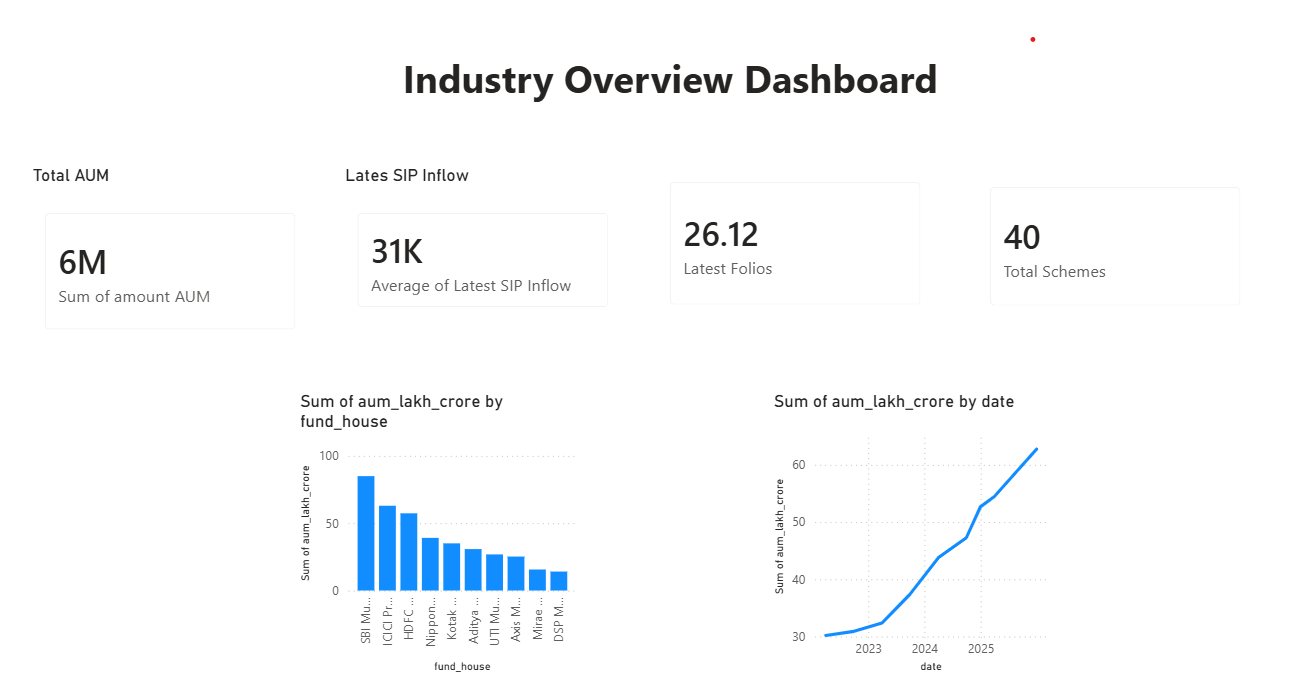

The page's visual inventory and layout, read from the dashboard file:
{"tool":"powerbi","page":{"name":"Industry Overview","canvas":[1280,720],"ordinal":0},"visuals":[{"type":"cardVisual","title":"Total AUM","fields":{"Data":["03_aum_by_fund_house.Latest AUM"]},"box":[28.6,204.4,279.5,178.8],"z":0},{"type":"cardVisual","title":"Lates SIP Inflow","fields":{"Data":["04_monthly_sip_inflows.Latest SIP Inflow"]},"box":[333.6,204.4,279.5,156.3],"z":1000},{"type":"cardVisual","fields":{"Data":["06_industry_folio_count.Latest Folios"]},"box":[640.2,204.4,279.5,154.8],"z":2000},{"type":"cardVisual","fields":{"Data":["01_fund_master.Total Schemes"]},"box":[952.7,208.9,279.5,150.3],"z":3000},{"type":"lineChart","fields":{"Category":["03_aum_by_fund_house.date"],"Y":["Sum(03_aum_by_fund_house.aum_lakh_crore)"]},"box":[752.9,425.3,280,280],"z":4000},{"type":"clusteredColumnChart","fields":{"Category":["03_aum_by_fund_house.fund_house"],"Y":["Sum(03_aum_by_fund_house.aum_lakh_crore)"]},"box":[290,425.3,280,280],"z":5000},{"type":"textbox","box":[183.3,88.7,946.7,115.7],"z":5001}]}

Visuals, with their boxes on the page's 1280x720 design canvas (x1, y1, x2, y2). These are canvas units, not pixel positions in the 1306x691 screenshot, which may show the page scaled, cropped or inside an application window:
"Total AUM" cardVisual: {"left": 29, "top": 204, "right": 308, "bottom": 383}
"Lates SIP Inflow" cardVisual: {"left": 334, "top": 204, "right": 613, "bottom": 361}
cardVisual - 06_industry_folio_count.Latest Folios: {"left": 640, "top": 204, "right": 920, "bottom": 359}
cardVisual - 01_fund_master.Total Schemes: {"left": 953, "top": 209, "right": 1232, "bottom": 359}
lineChart - 03_aum_by_fund_house.date x Sum(03_aum_by_fund_house.aum_lakh_crore): {"left": 753, "top": 425, "right": 1033, "bottom": 705}
clusteredColumnChart - 03_aum_by_fund_house.fund_house x Sum(03_aum_by_fund_house.aum_lakh_crore): {"left": 290, "top": 425, "right": 570, "bottom": 705}
textbox: {"left": 183, "top": 89, "right": 1130, "bottom": 204}
